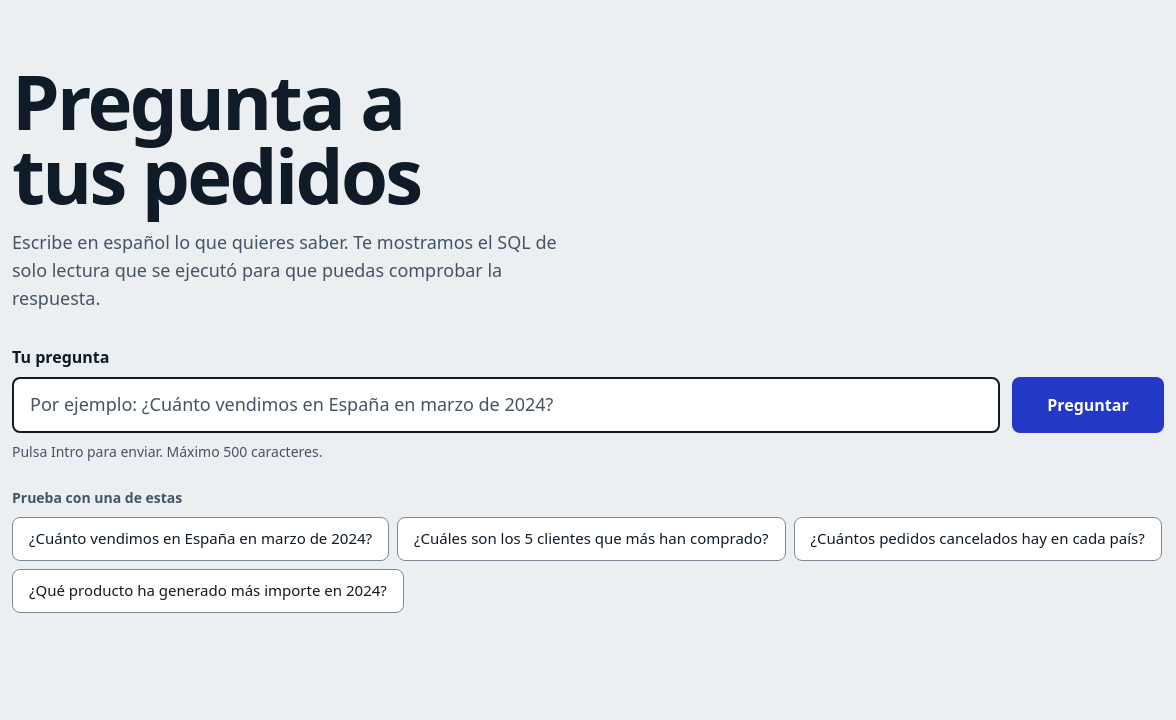
it: QuestionPanel › avisa cuando no hay conexión con el servidor
In the field labelled "Tu pregunta": (506, 405) top-left (12, 377), bottom-right (1000, 433), type "hola"
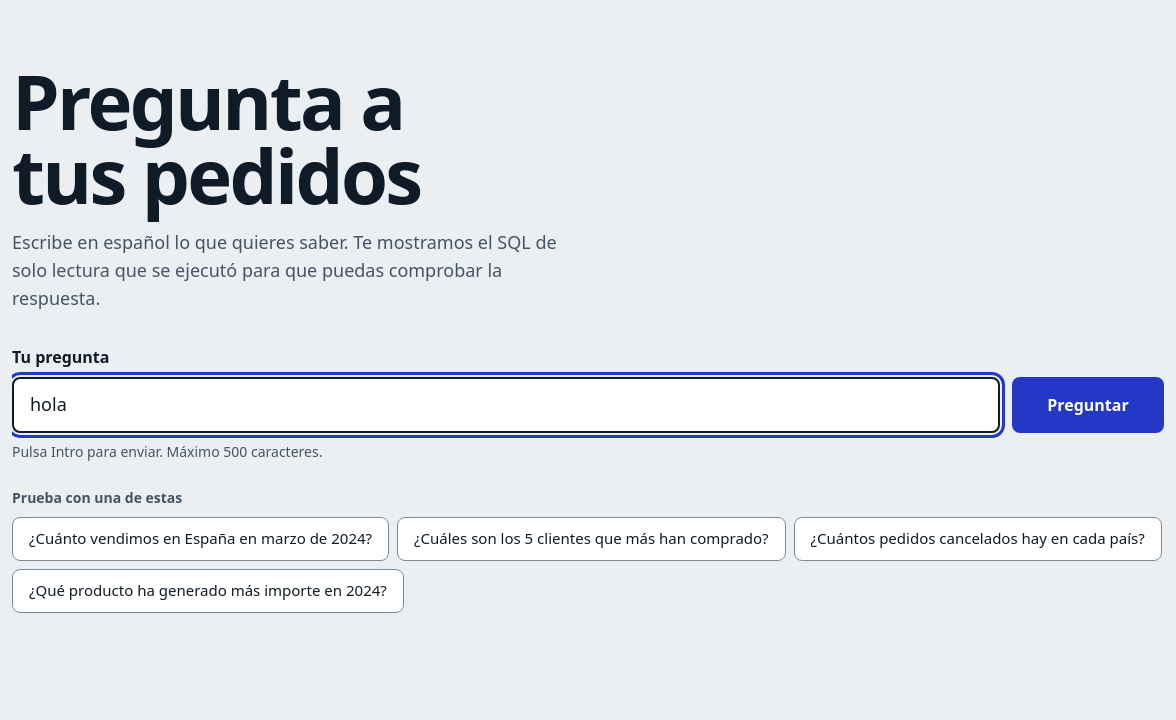
Click the button "Preguntar": (1088, 405) top-left (1012, 377), bottom-right (1164, 433)
(page scrolled)
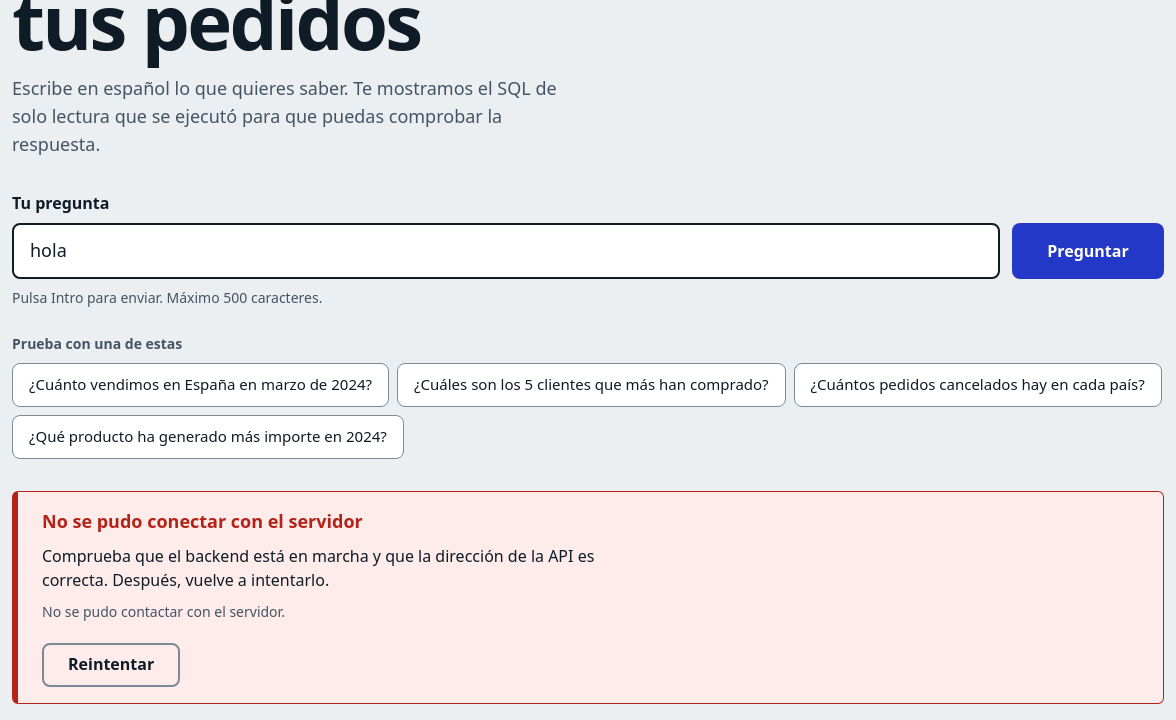
Expected: the message shows "No se pudo conectar con el servidor", top-left (42, 509), bottom-right (363, 533)
